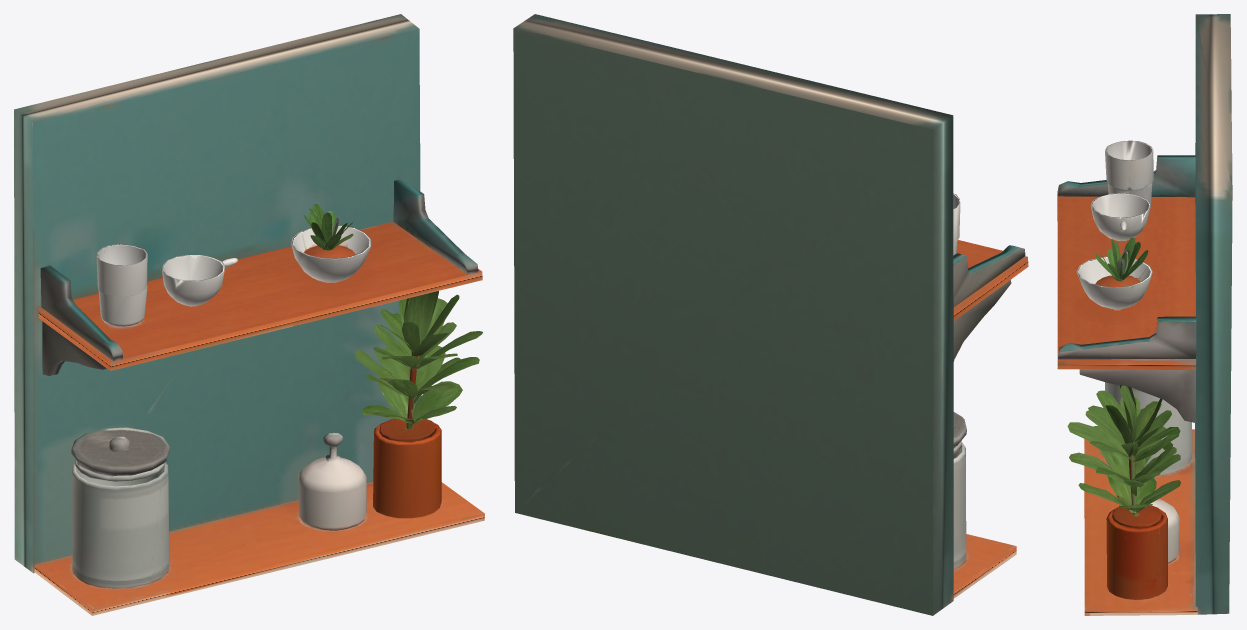
The model's file is env_cafe_wall_shelf.glb.
The picture shows the model from 3 angles, left to right: view 1: azimuth 30°, elevation 25°; view 2: azimuth 150°, elevation 25°; view 3: azimuth 270°, elevation 25°; orthographic projection. The views are drawn at different scales.
Size of the model in its own units: 0.9264 by 0.9952 by 0.3737.
Materials: 1 (1 with a texture image).
